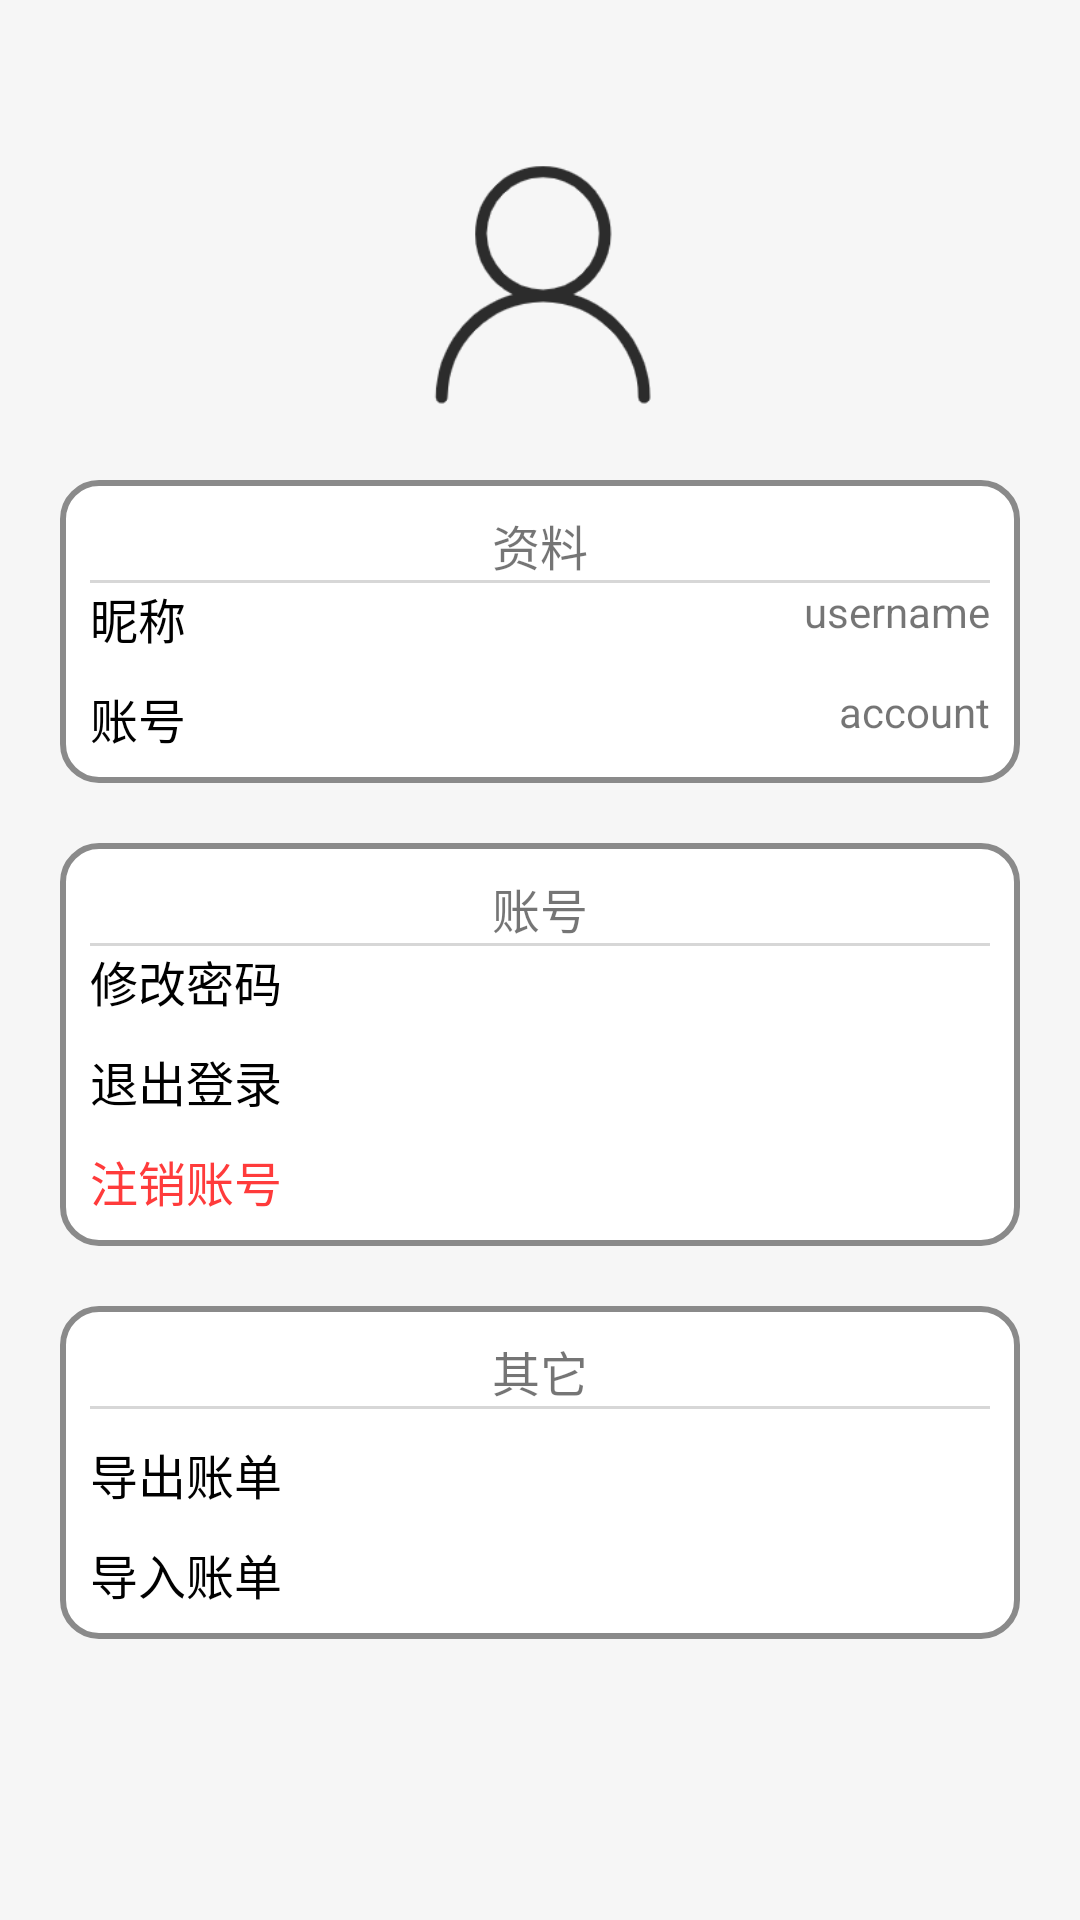

Where icons sit on this 1080 × 1920 app screen, as rect(x1, y1, x2, y2):
profile: rect(435, 166, 651, 404)
